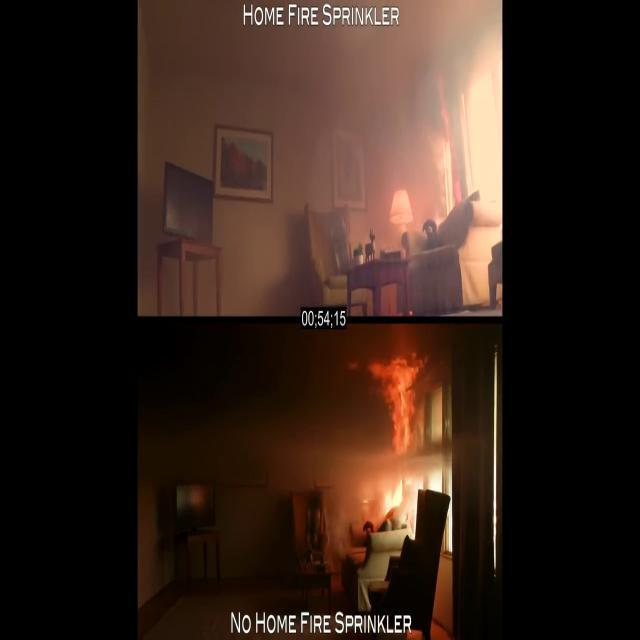Fire: (350, 348, 440, 556), (437, 130, 457, 213)
